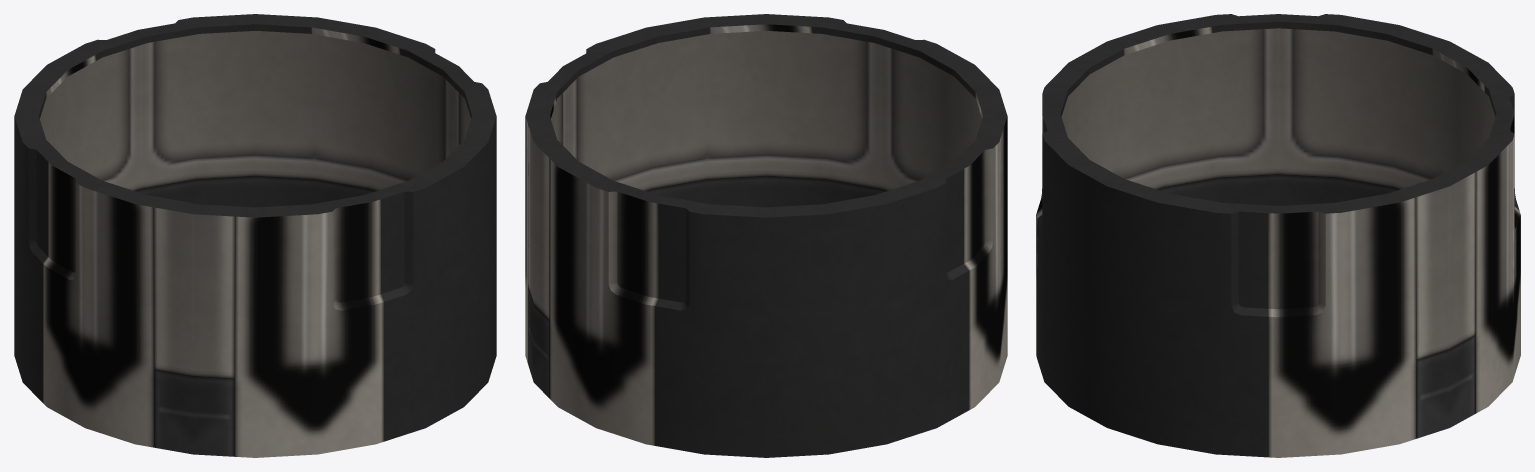
File: stage3interstage.fbx
3 renders of one model, left to right at view 1: azimuth 30°, elevation 25°; view 2: azimuth 150°, elevation 25°; view 3: azimuth 270°, elevation 25°, orthographic.
Parts seen in each view (by area): view 1: mesh; view 2: mesh; view 3: mesh.
Boxes of the visible parts, x1=… form: mesh: x1=14, y1=14, x2=496, y2=457; mesh: x1=525, y1=14, x2=1007, y2=457; mesh: x1=1036, y1=14, x2=1520, y2=457.
Size of the model in its own units: 2.5 by 1.38 by 2.5.
